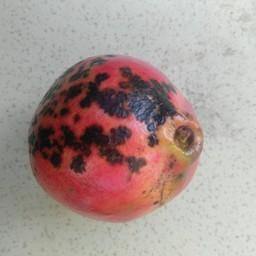Bad_pomegranate: (27, 47, 207, 224)
